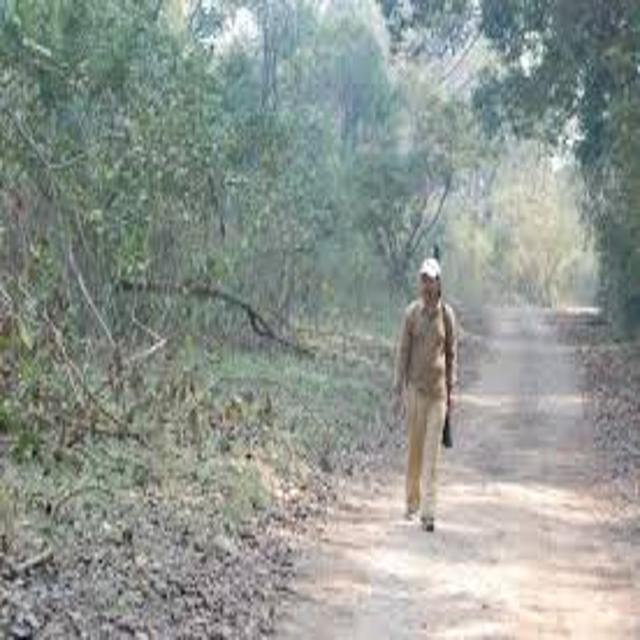poacher: (344, 234, 535, 550)
